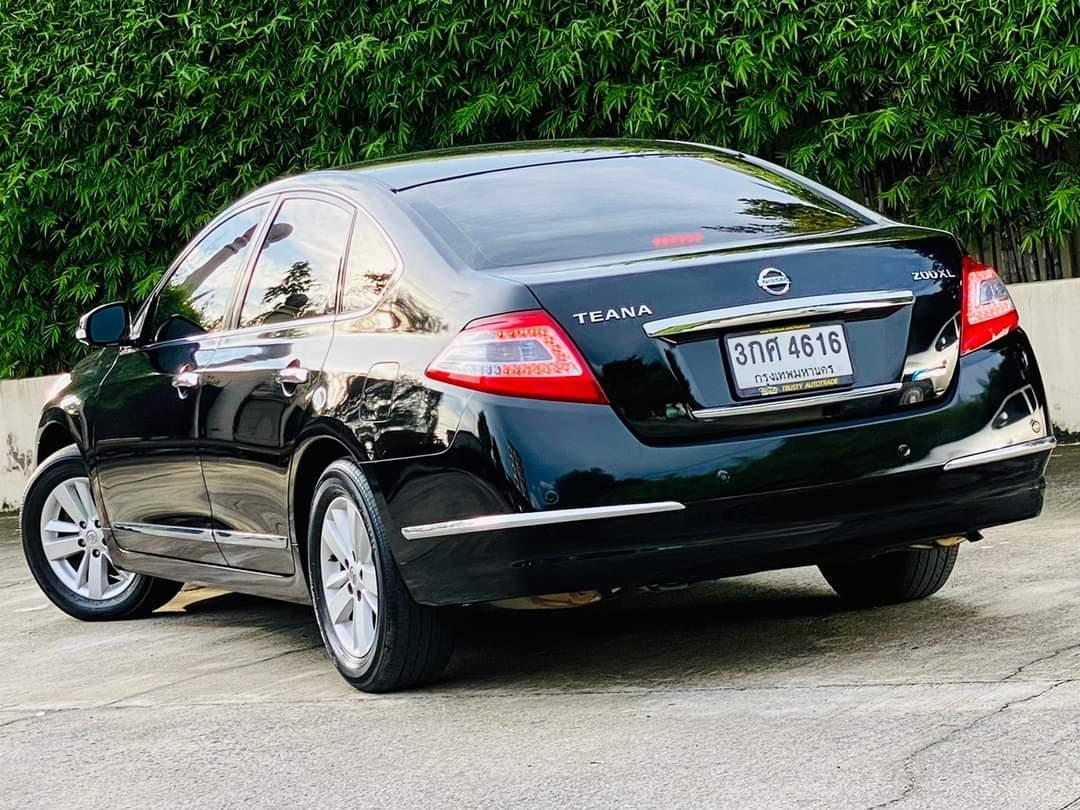license-plate: (720, 319, 857, 403)
